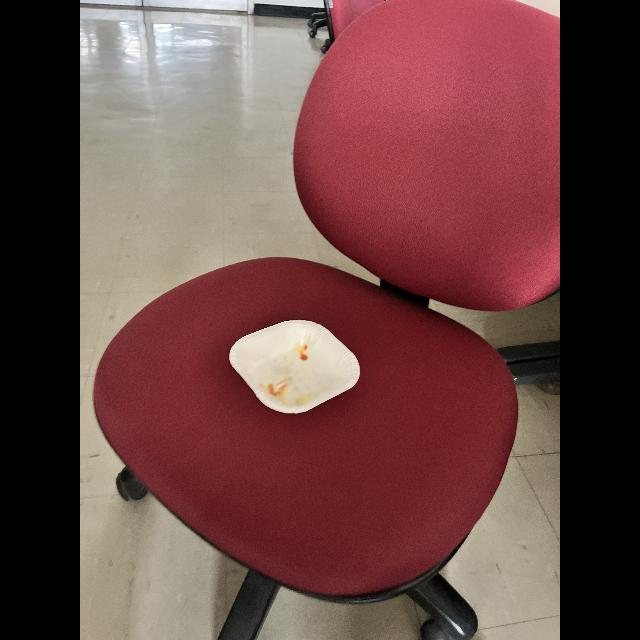cardboard_bowl: (220, 305, 366, 425)
